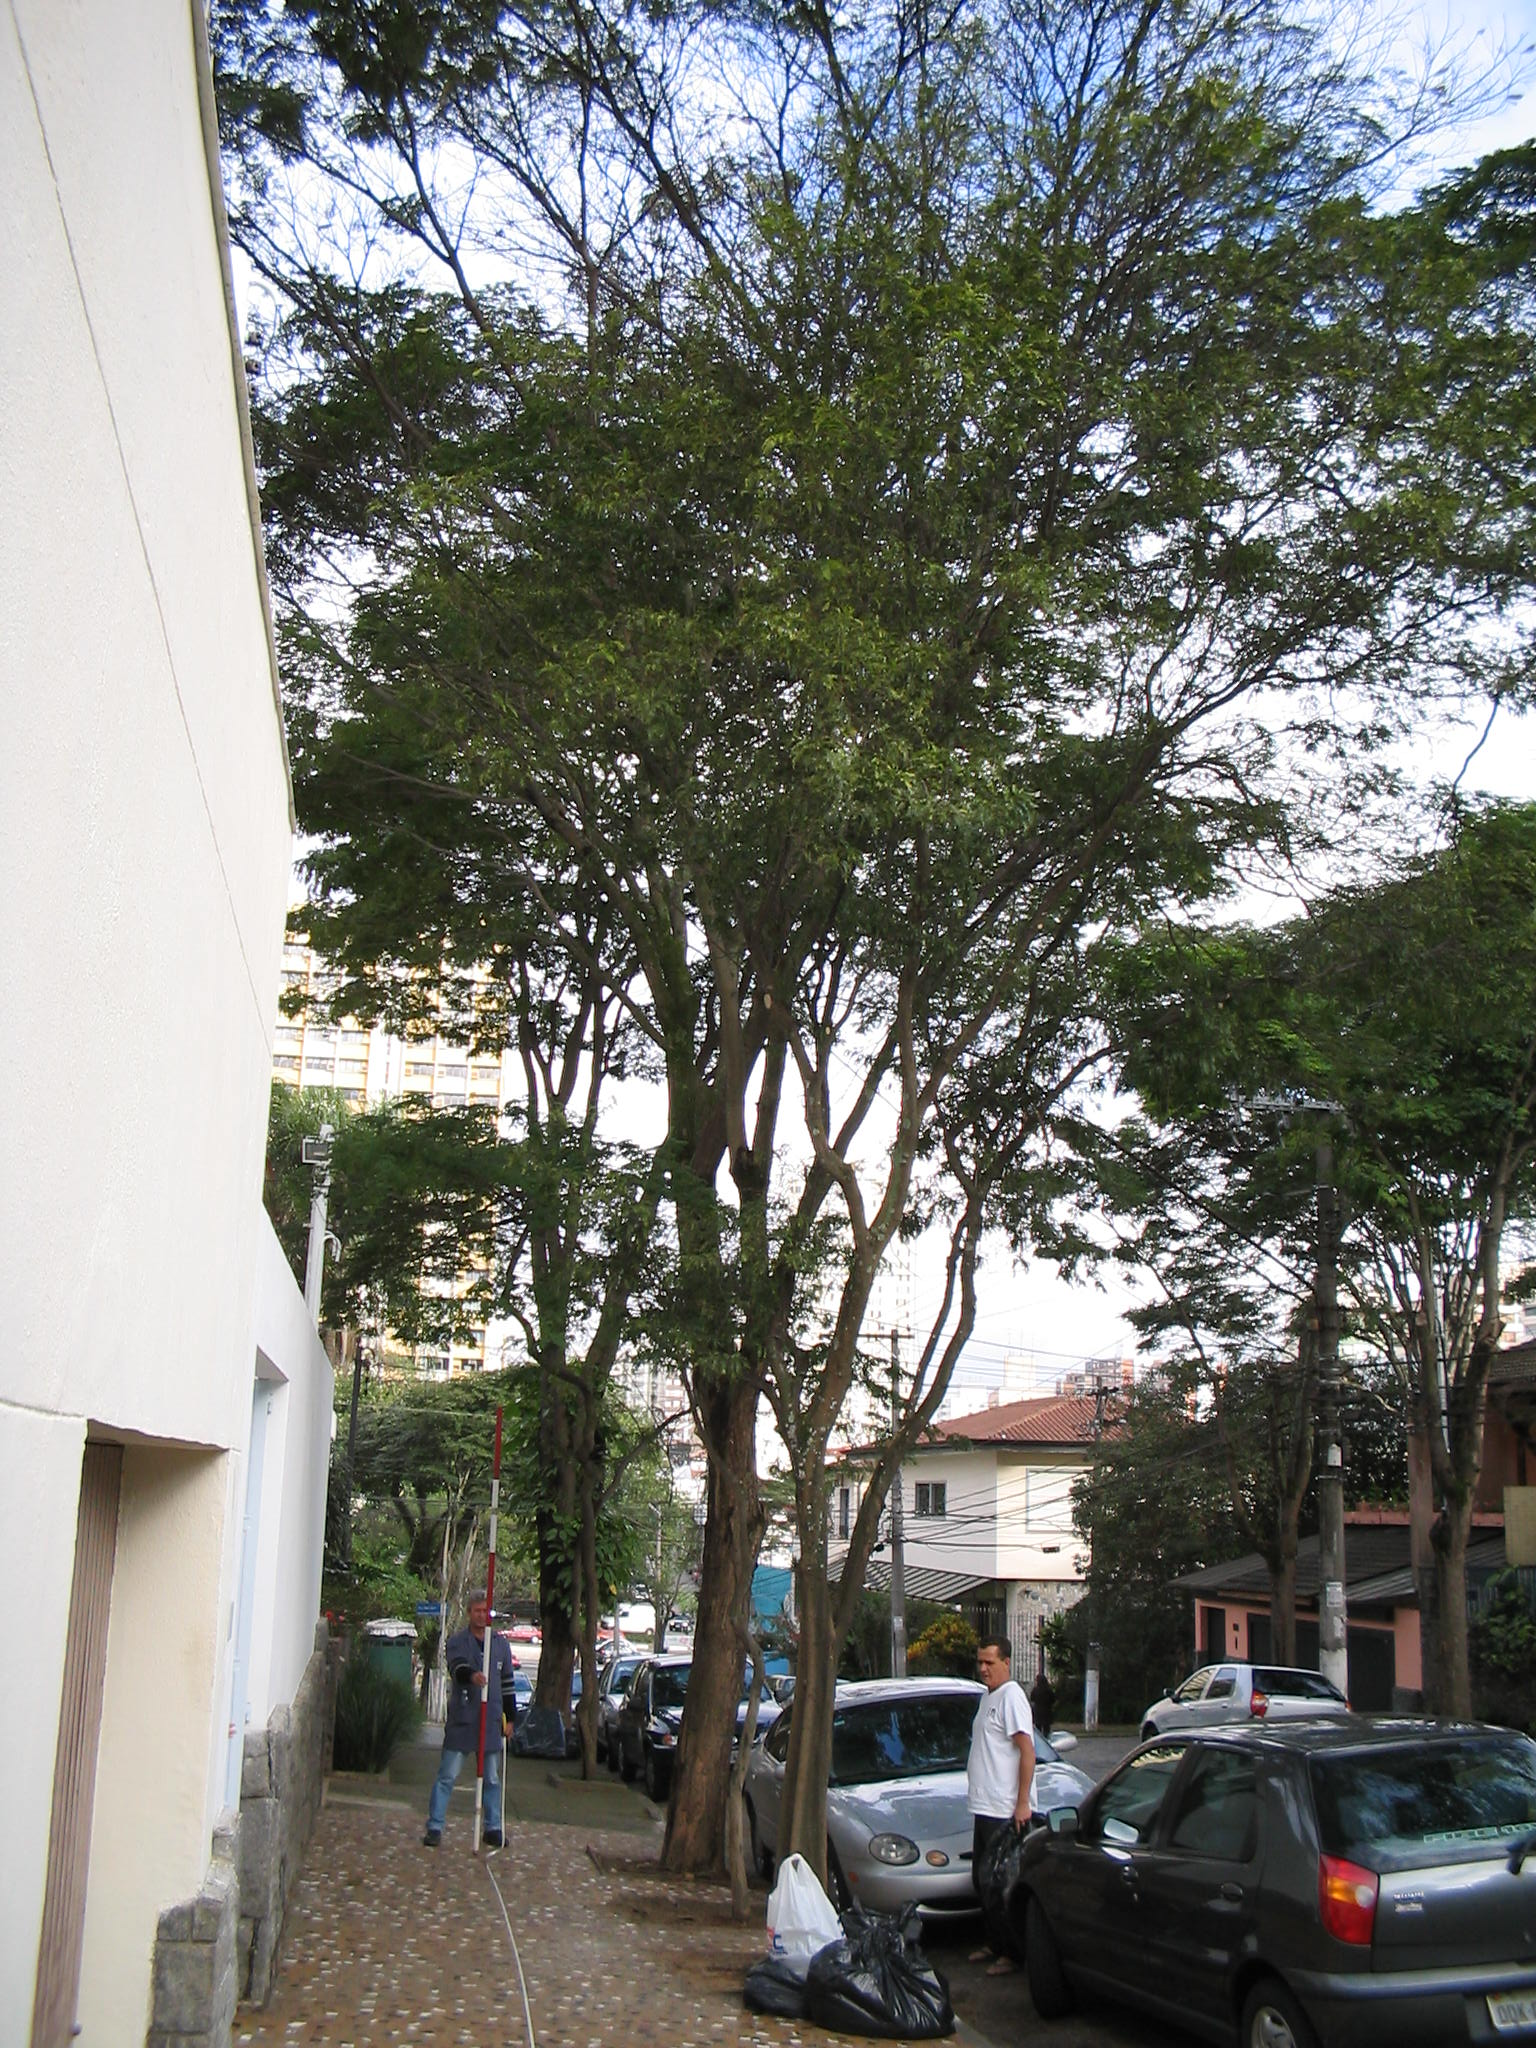crown: (266, 53, 1526, 1047)
stem: (645, 1517, 770, 1872)
stick: (466, 1405, 520, 1854)
tree: (253, 44, 1533, 1877)
